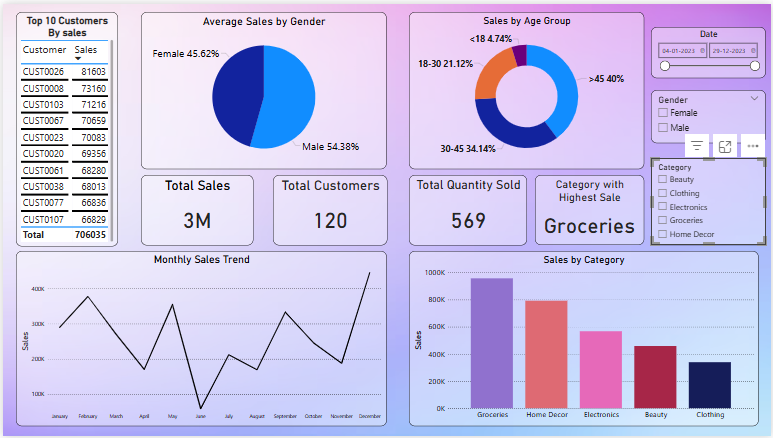

What the dashboard file says about the page in this screenshot:
{"tool":"powerbi","page":{"name":"Page 1","canvas":[1920,1080],"ordinal":0},"visuals":[{"type":"lineChart","title":"Monthly Sales Trend","fields":{"Category":["Sheet1.Date.Variation.Date Hierarchy.Month","Sheet1.Date.Variation.Date Hierarchy.Day"],"Y":["Sum(Sheet1.Total_Amount)"]},"box":[33.3,617.8,926.7,437.8],"z":0},{"type":"columnChart","title":"Sales by Category","fields":{"Category":["Sheet1.Product_Category"],"Y":["Sum(Sheet1.Total_Amount)"],"Series":["Sheet1.Product_Category"]},"box":[1014,618,874,438],"z":1000},{"type":"donutChart","title":"Sales by Age Group","fields":{"Y":["Sum(Sheet1.Total_Amount)"],"Category":["Sheet1.Age Grp"]},"box":[1014.3,19,588.1,392.9],"z":2000},{"type":"tableEx","title":"Top 10 Customers By sales","fields":{"Values":["Sheet1.Customer_ID","Sum(Sheet1.Total_Amount)"]},"box":[33.3,19,254.8,585.7],"z":2001},{"type":"pieChart","title":"Average Sales by Gender","fields":{"Category":["Sheet1.Gender"],"Y":["Avg(Sheet1.Total_Amount)"]},"box":[345.2,19,614.3,392.9],"z":2002},{"type":"card","title":"Total Sales","fields":{"Values":["Sum(Sheet1.Total_Amount)"]},"box":[345.2,428.6,281,176.2],"z":2003},{"type":"card","title":"Total Customers","fields":{"Values":["Count(Sheet1.Customer_ID)"]},"box":[673.8,428.6,285.7,176.2],"z":2004},{"type":"card","title":"Total Quantity Sold","fields":{"Values":["Sum(Sheet1.Quantity)"]},"box":[1014.3,428.6,295.2,176.2],"z":2005},{"type":"card","title":"Category with Highest Sale","fields":{"Values":["Min(Sheet1.Product_Category)"]},"box":[1330,427.5,272.5,175],"z":2006},{"type":"slicer","title":"Date","fields":{"Values":["Sheet1.Date"]},"box":[1620,56.7,286.7,128.3],"z":2007},{"type":"slicer","fields":{"Values":["Sheet1.Gender"]},"box":[1620,215,286.7,133.3],"z":2008},{"type":"slicer","fields":{"Values":["Sheet1.Product_Category"]},"box":[1620,385,286.7,218.3],"z":2009}]}

Visuals, with their boxes in screenshot pixels (x1, y1, x2, y2), scaled from the page's 1920x1080 canvas onto the 773x438 screenshot:
"Monthly Sales Trend" lineChart: [13, 251, 386, 428]
"Sales by Category" columnChart: [408, 251, 760, 428]
"Sales by Age Group" donutChart: [408, 8, 645, 167]
"Top 10 Customers By sales" tableEx: [13, 8, 116, 245]
"Average Sales by Gender" pieChart: [139, 8, 386, 167]
"Total Sales" card: [139, 174, 252, 245]
"Total Customers" card: [271, 174, 386, 245]
"Total Quantity Sold" card: [408, 174, 527, 245]
"Category with Highest Sale" card: [535, 173, 645, 244]
"Date" slicer: [652, 23, 768, 75]
slicer - Sheet1.Gender: [652, 87, 768, 141]
slicer - Sheet1.Product_Category: [652, 156, 768, 245]
